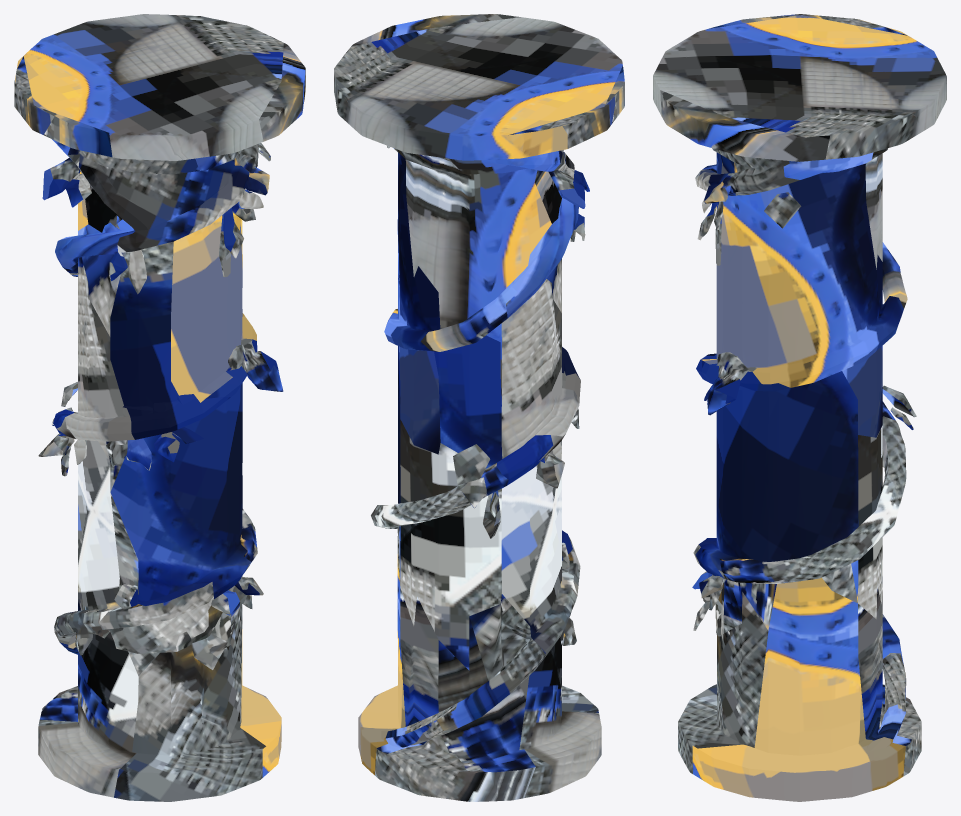
File: Sin_nombre 1.fbx
3 renders of one model, left to right at view 1: azimuth 30°, elevation 25°; view 2: azimuth 150°, elevation 25°; view 3: azimuth 270°, elevation 25°, orthographic.
Parts seen in each view (by area): view 1: model; view 2: model; view 3: model.
Part boxes in pixels (x1,y1,x2,y2): model: (14,14,305,801); model: (334,14,624,801); model: (653,14,946,801).
Bounding box in the file's own units: 71.06 × 181 × 71.1.
